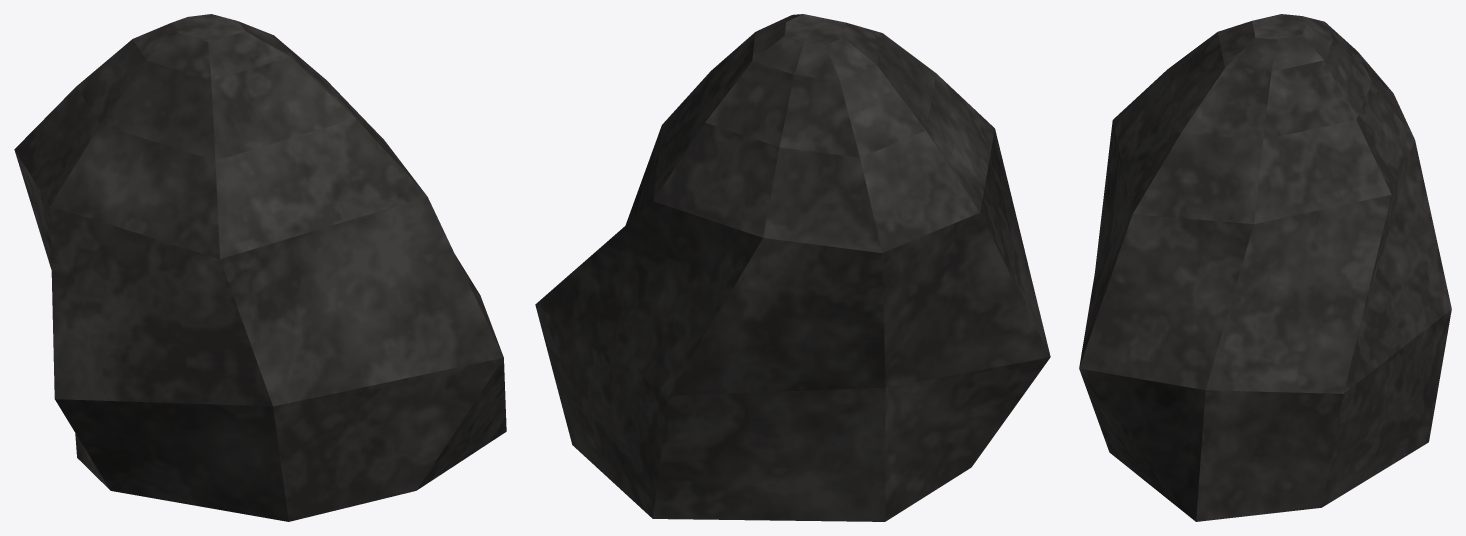
File: rock4.glb
The picture shows the model from 3 angles, left to right: view 1: azimuth 30°, elevation 25°; view 2: azimuth 150°, elevation 25°; view 3: azimuth 270°, elevation 25°; orthographic projection. The views are drawn at different scales.
Parts seen in each view (by area): view 1: Cylinder.001; view 2: Cylinder.001; view 3: Cylinder.001.
Boxes of the visible parts, box(x1,y1,x2,y2) form: Cylinder.001: box(14, 14, 506, 521); Cylinder.001: box(535, 14, 1050, 521); Cylinder.001: box(1079, 14, 1451, 521).
Bounding box in the file's own units: 4.36 × 4.11 × 3.56.
1 material, 1 textured.
